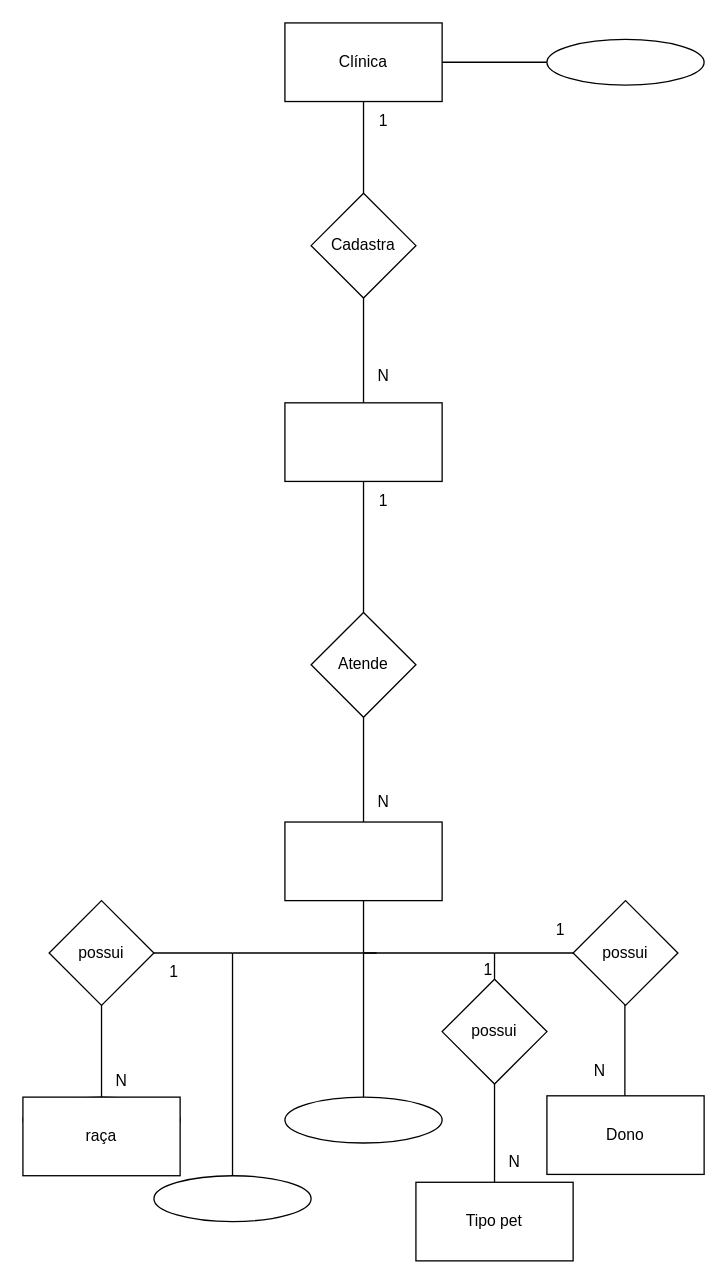
Image size: 727x1284. Some labels were removed from this diagram. The centre of each missing label's shape, as x and y in pixels:
Data de nascimento: (363,1119)
Endereço: (625,61)
Nome: (232,1198)
Pets: (363,861)
Veterinário: (363,441)
